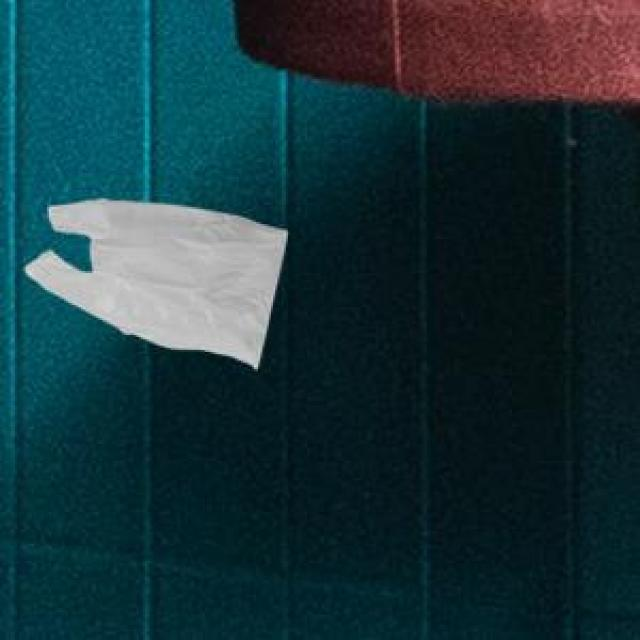plastic: (18, 145, 337, 397)
